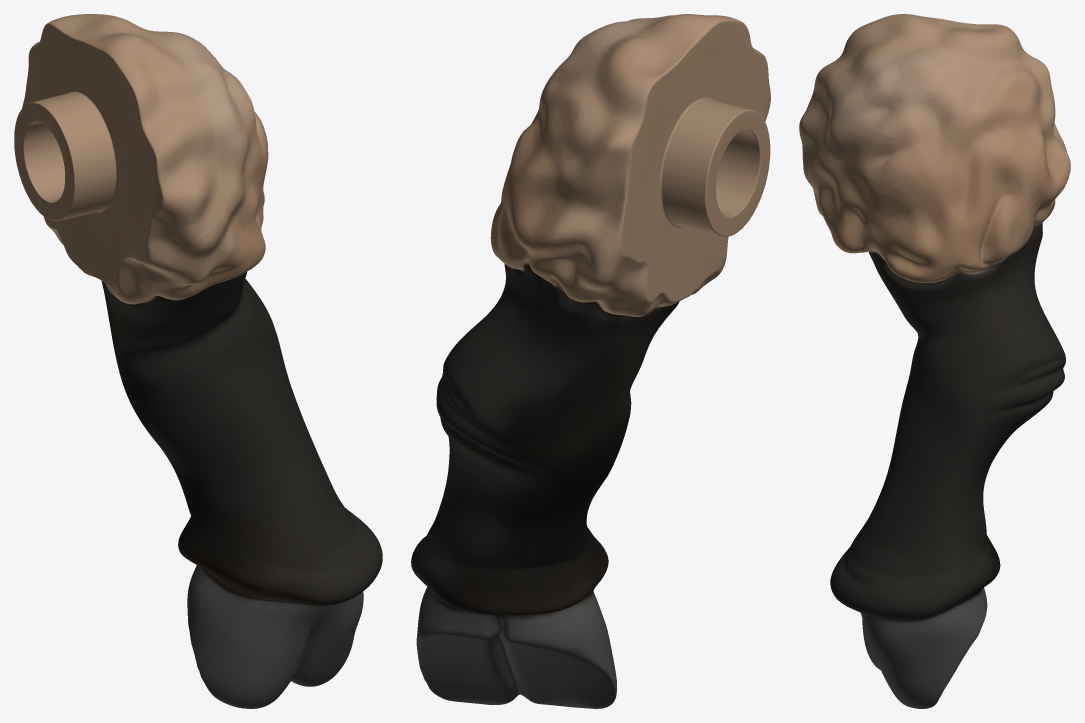
Rendered from Bras_Mouton_lft.glb.
The picture shows the model from 3 angles, left to right: view 1: azimuth 30°, elevation 25°; view 2: azimuth 150°, elevation 25°; view 3: azimuth 270°, elevation 25°; orthographic projection. The views are drawn at different scales.
Parts seen in each view (by area): view 1: Bras_Vache_lft.001; view 2: Bras_Vache_lft.001; view 3: Bras_Vache_lft.001.
Boxes of the visible parts, x1=… form: Bras_Vache_lft.001: x1=14, y1=14, x2=382, y2=708; Bras_Vache_lft.001: x1=411, y1=14, x2=770, y2=708; Bras_Vache_lft.001: x1=799, y1=14, x2=1070, y2=708.
Bounding box in the file's own units: 2.52 × 5.36 × 2.19.
